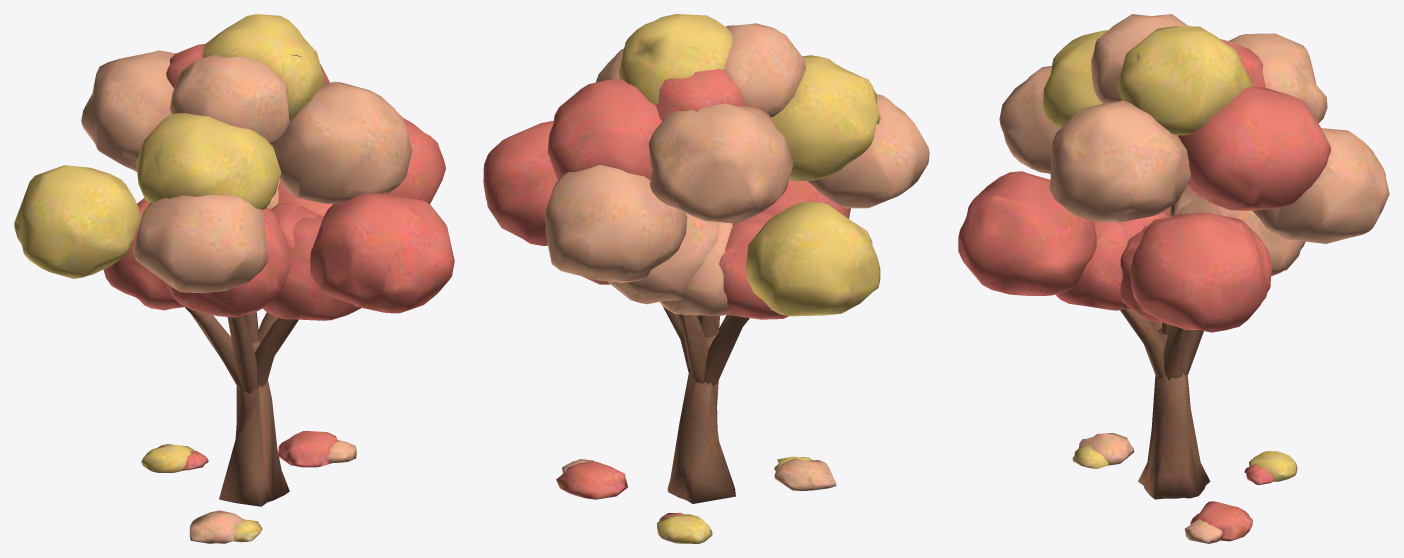
File: autumn-tree.glb
The picture shows the model from 3 angles, left to right: view 1: azimuth 30°, elevation 25°; view 2: azimuth 150°, elevation 25°; view 3: azimuth 270°, elevation 25°; orthographic projection. The views are drawn at different scales.
Parts seen in each view (by area): view 1: autumn-tree_body; view 2: autumn-tree_body; view 3: autumn-tree_body.
Boxes of the visible parts, x1,y1,x2,y2 form: autumn-tree_body: [14, 14, 454, 543]; autumn-tree_body: [483, 14, 929, 543]; autumn-tree_body: [958, 14, 1389, 543].
Bounding box in the file's own units: 5.71 × 6.37 × 5.39.
Materials: 1 (1 with a texture image).
